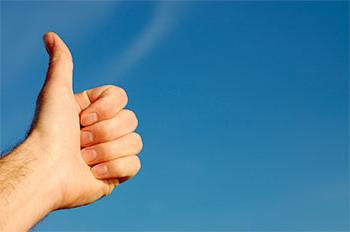thumbsup: (39, 31, 145, 212)
